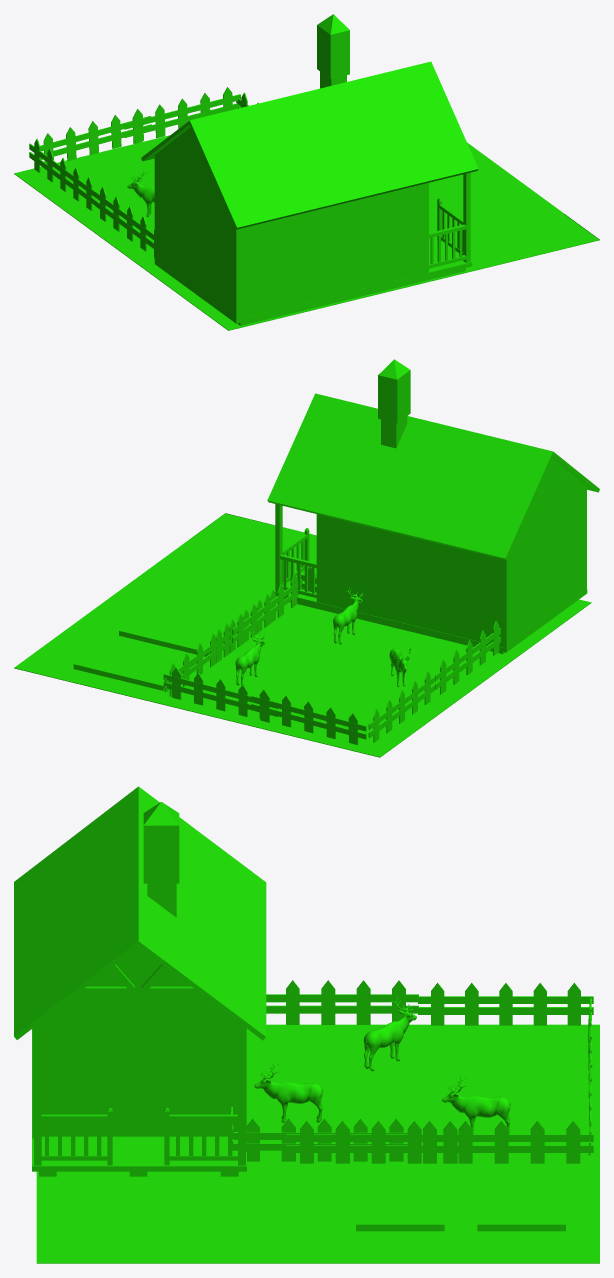
The model's file is GHOST_ELF_FARM.fbx.
The picture shows the model from 3 angles, top to bottom: view 1: azimuth 30°, elevation 25°; view 2: azimuth 150°, elevation 25°; view 3: azimuth 270°, elevation 25°; orthographic projection. The views are drawn at different scales.
Parts seen in each view (by area): view 1: Cubo; view 2: Cubo; view 3: Cubo.
Boxes of the visible parts, bbox=[...] form: Cubo: bbox=[14, 14, 599, 330]; Cubo: bbox=[14, 359, 599, 757]; Cubo: bbox=[14, 786, 599, 1263].
Bounding box in the file's own units: 815 × 513 × 848.
